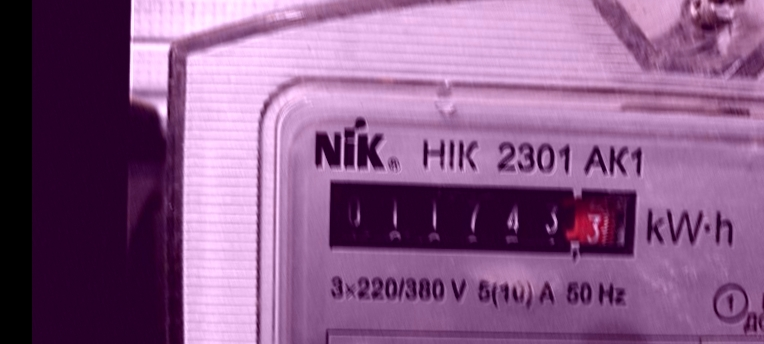0: (345, 193, 364, 230)
1: (428, 196, 443, 230), (391, 195, 401, 228)
3: (541, 201, 561, 236), (585, 214, 604, 247)
4: (505, 200, 522, 235)
7: (466, 199, 484, 233)
screen: (315, 170, 651, 270)
